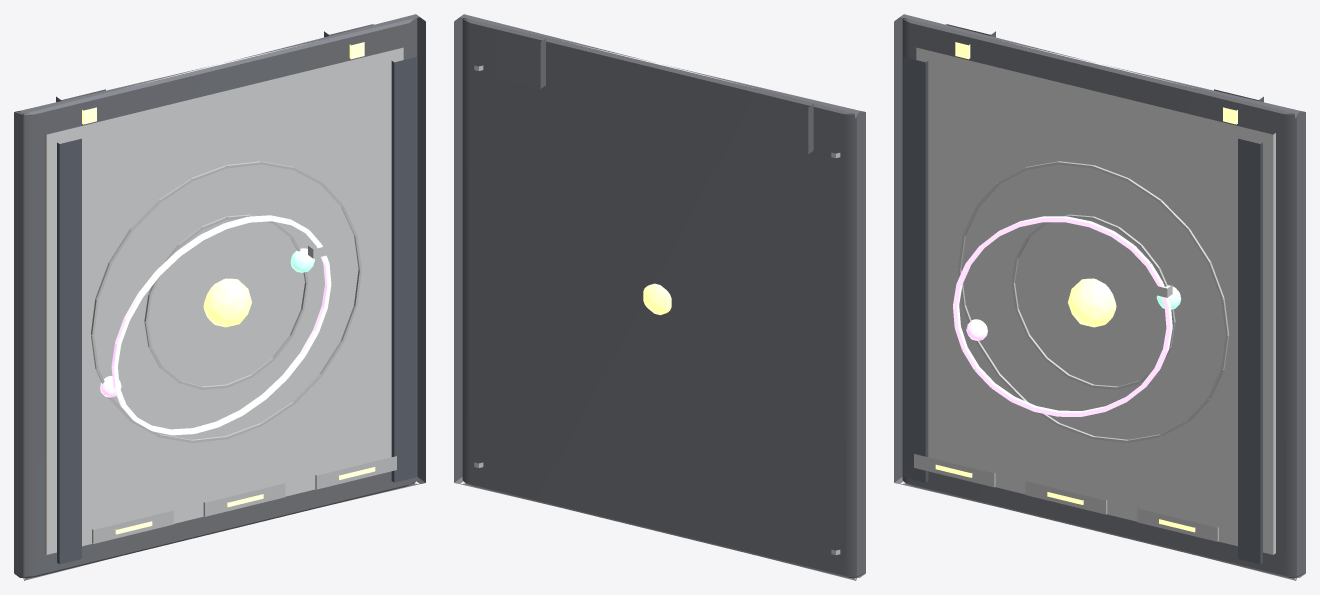
The model's file is iter_04.glb.
The picture shows the model from 3 angles, left to right: view 1: azimuth 30°, elevation 25°; view 2: azimuth 150°, elevation 25°; view 3: azimuth 330°, elevation 25°; orthographic projection.
Visible parts, largest first — view 1: Layer_Back, Back_Plate, Layer_Mid, Cycler_Route, Mars_Orbit, Label_Strips, Sun, Earth_Orbit, Label_Glyphs; view 2: Back_Plate, Rail_Hooks, Sun; view 3: Layer_Back, Back_Plate, Layer_Mid, Cycler_Route, Label_Strips, Mars_Orbit, Sun, Earth_Orbit, Label_Glyphs.
Boxes of the visible parts, bbox=[...] form: Layer_Back: bbox=[44, 47, 403, 554]; Back_Plate: bbox=[14, 14, 425, 580]; Layer_Mid: bbox=[57, 57, 416, 564]; Cycler_Route: bbox=[111, 215, 331, 435]; Mars_Orbit: bbox=[90, 161, 361, 442]; Label_Strips: bbox=[92, 456, 396, 543]; Sun: bbox=[203, 278, 251, 327]; Earth_Orbit: bbox=[144, 214, 308, 389]; Label_Glyphs: bbox=[115, 467, 375, 534]; Back_Plate: bbox=[454, 14, 865, 580]; Rail_Hooks: bbox=[496, 31, 813, 154]; Sun: bbox=[643, 283, 671, 315]; Layer_Back: bbox=[916, 47, 1275, 554]; Back_Plate: bbox=[894, 14, 1305, 580]; Layer_Mid: bbox=[903, 57, 1262, 564]; Cycler_Route: bbox=[953, 216, 1172, 416]; Label_Strips: bbox=[914, 454, 1218, 541]; Mars_Orbit: bbox=[958, 161, 1229, 442]; Sun: bbox=[1068, 278, 1116, 327]; Earth_Orbit: bbox=[1011, 214, 1175, 389]; Label_Glyphs: bbox=[935, 464, 1195, 532].
Size of the model in its own units: 0.9 by 1 by 0.148.
